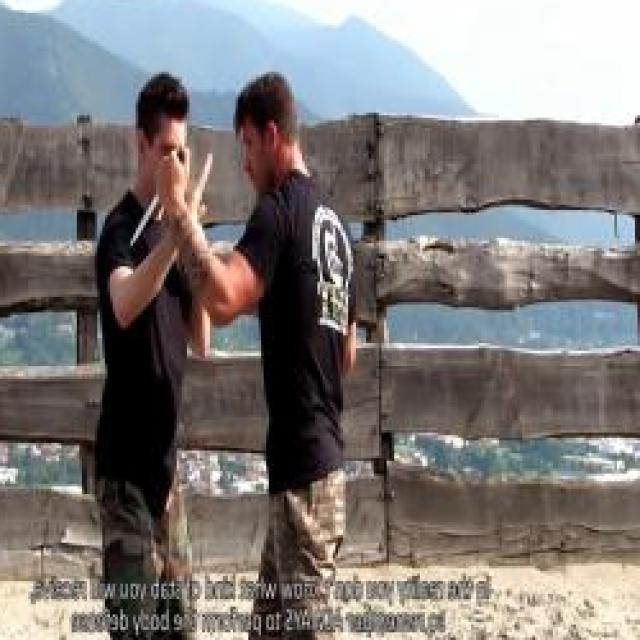knife: (128, 141, 192, 251)
